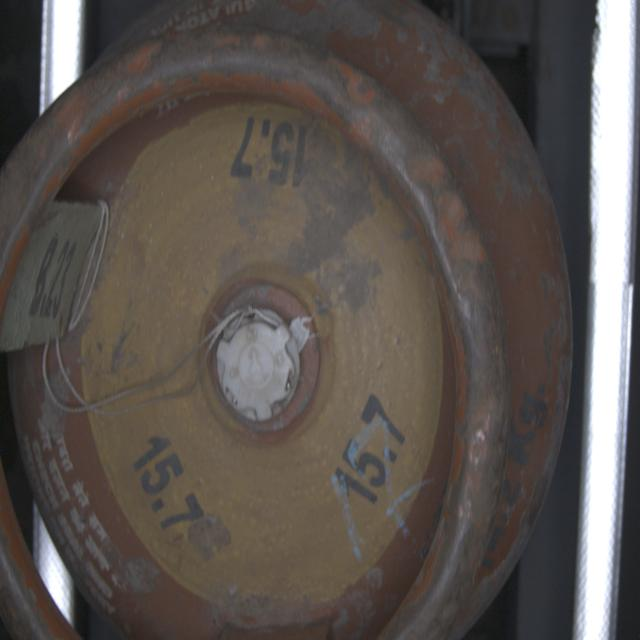Cap: (212, 304, 298, 428)
